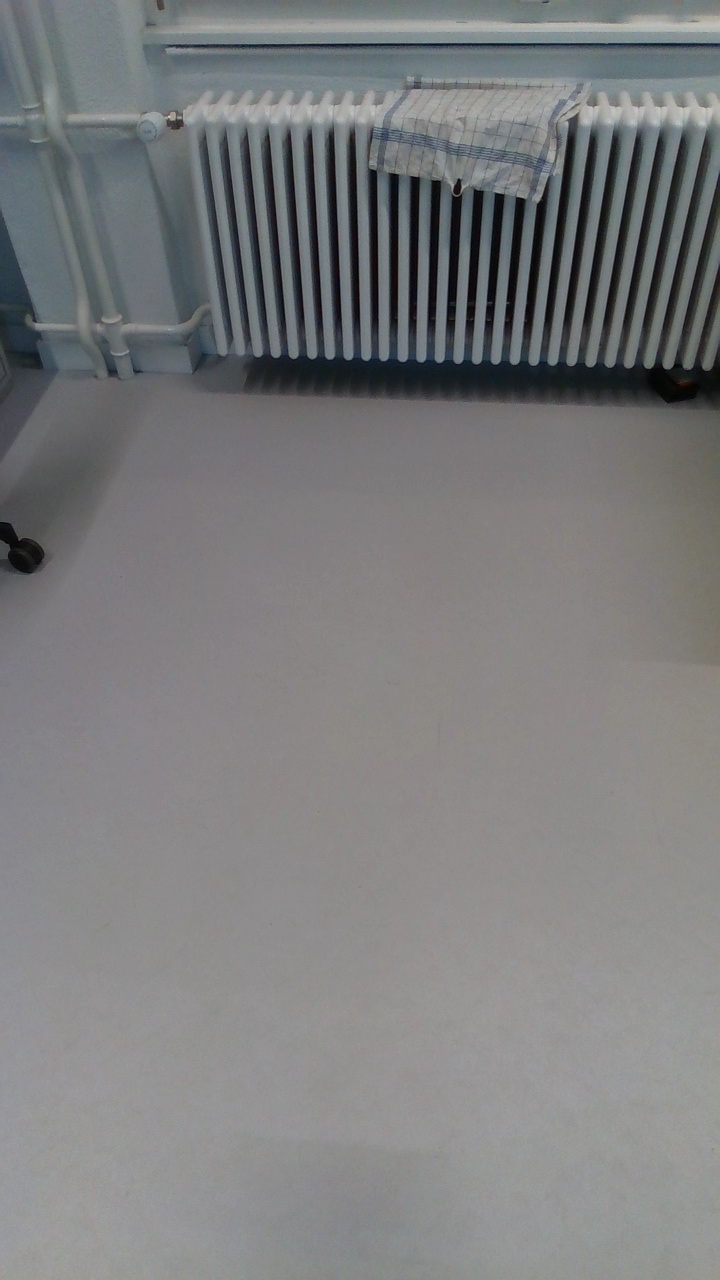Knob_Radiator: (129, 103, 178, 149)
Radiator: (183, 81, 720, 389)
